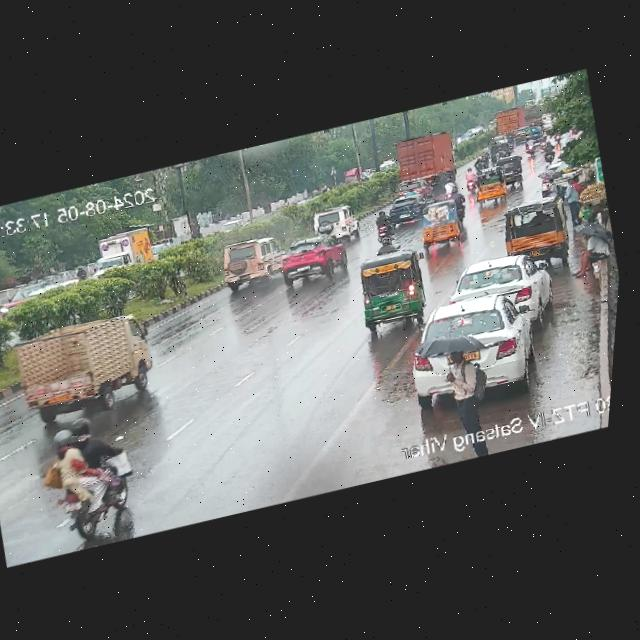car: (398, 286, 557, 402), (344, 243, 439, 338), (445, 247, 557, 325), (493, 194, 575, 263), (273, 230, 352, 289), (212, 235, 284, 296), (412, 197, 471, 253), (305, 202, 362, 244), (383, 190, 428, 229), (473, 164, 512, 205), (418, 218, 465, 250), (492, 154, 525, 189)
motorcycle: (38, 407, 141, 539), (373, 210, 402, 239), (538, 139, 559, 165), (463, 168, 477, 194), (523, 135, 537, 155)
person: (432, 331, 497, 431), (570, 221, 618, 279), (557, 172, 588, 224)
truck: (8, 308, 162, 426), (382, 128, 459, 191), (491, 100, 546, 134)
